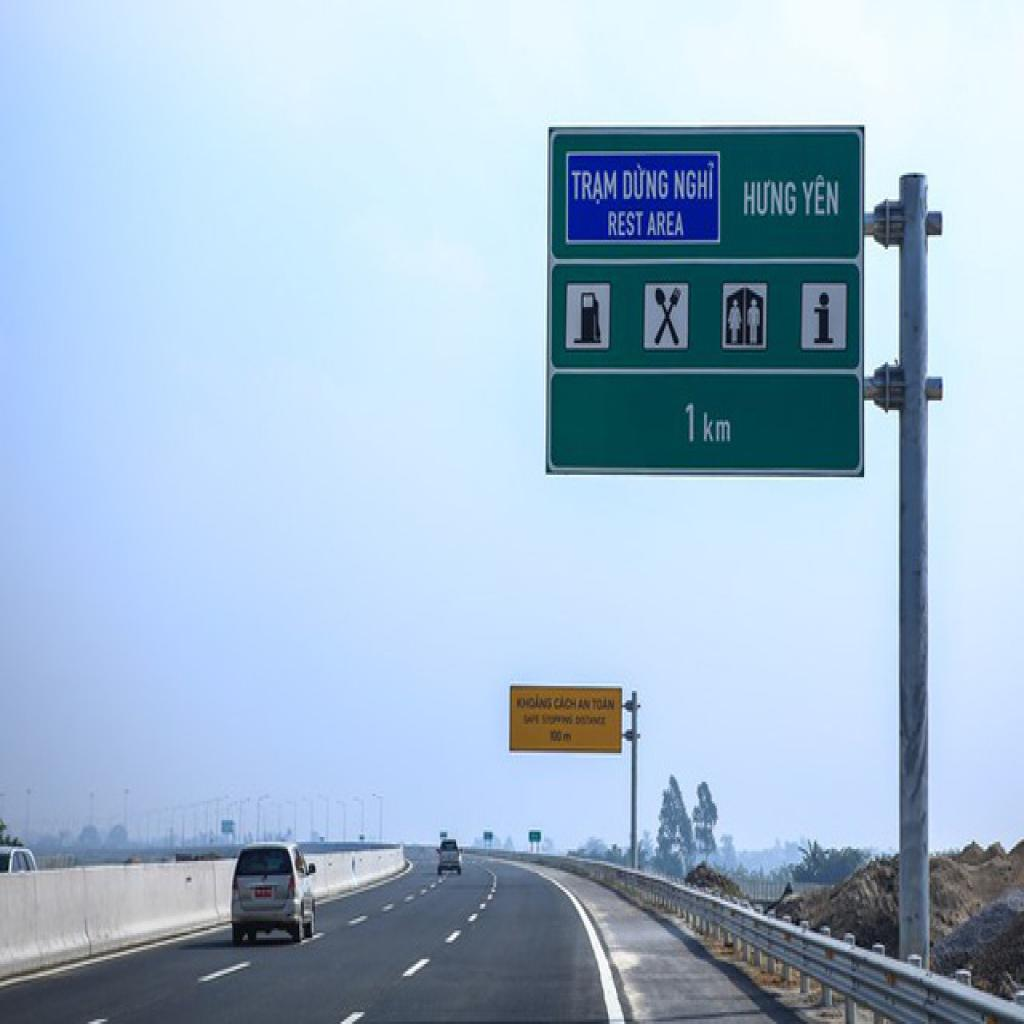text: (744, 178, 798, 218), (624, 165, 670, 204), (675, 160, 717, 202), (571, 170, 619, 206), (802, 175, 840, 218), (811, 290, 835, 348), (608, 208, 645, 240), (646, 211, 686, 240), (516, 693, 554, 712), (683, 403, 698, 446), (555, 696, 579, 714), (549, 729, 574, 746), (592, 696, 618, 712), (578, 698, 592, 712)
